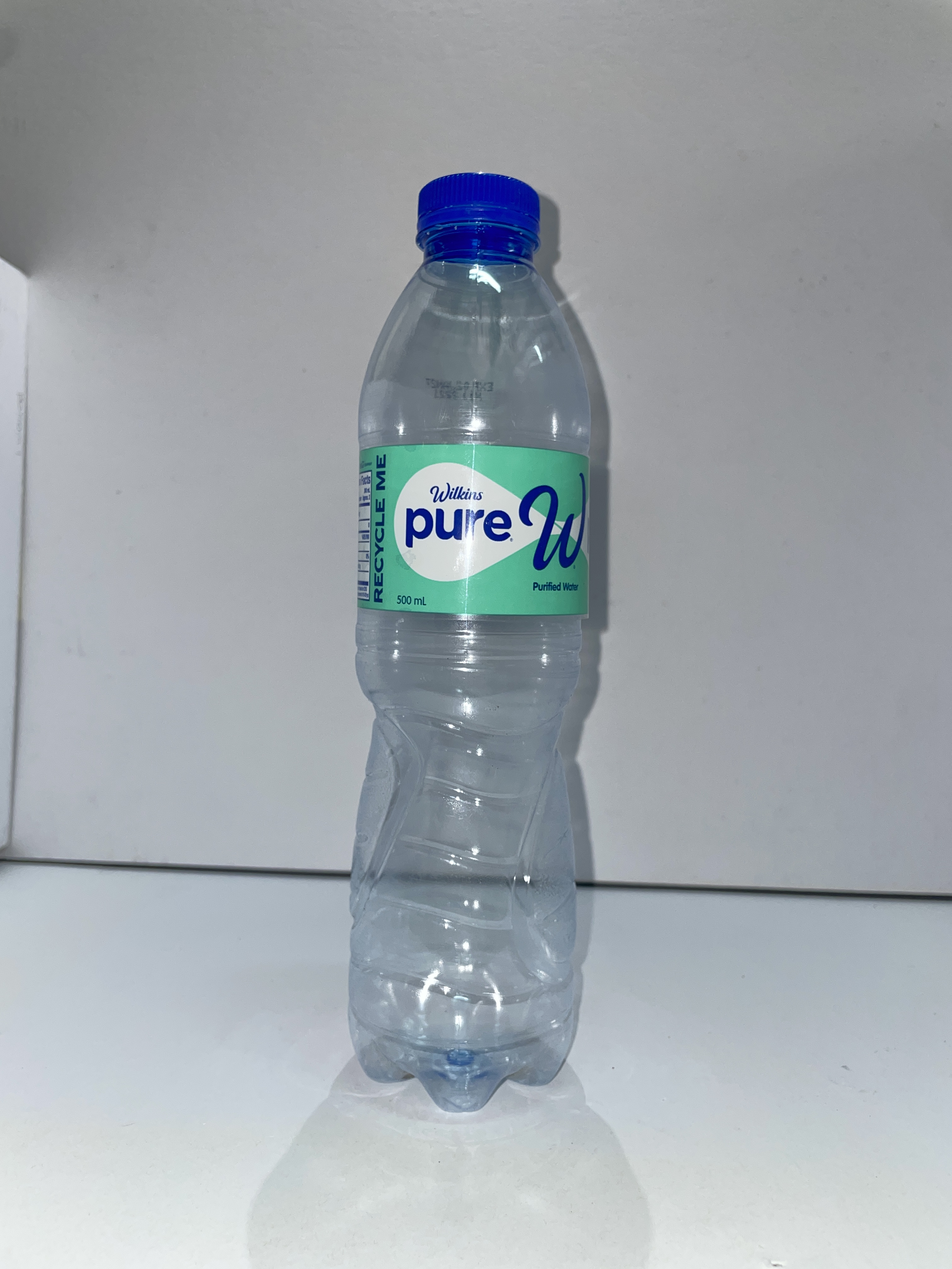wilkins pure 500ml: (349, 173, 595, 1112)
